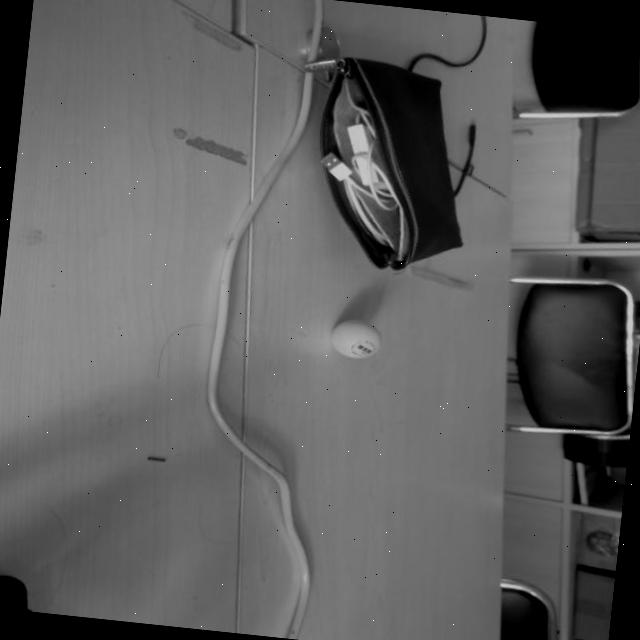ping-pong-ball: (326, 318, 384, 362)
